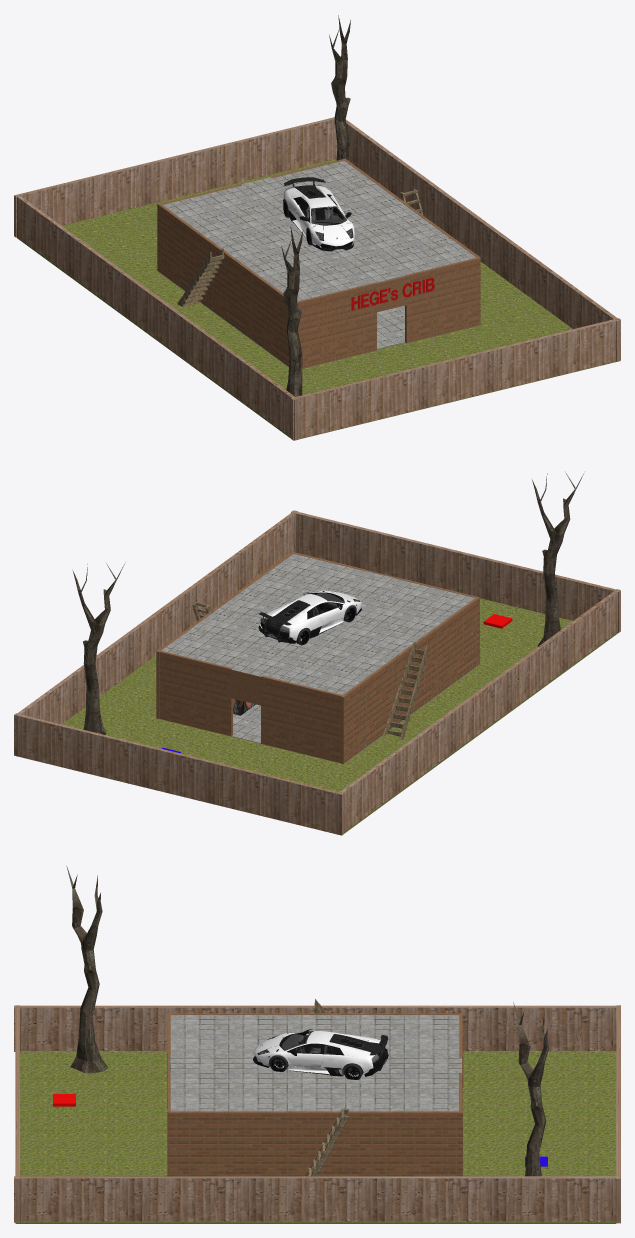
Rendered from hege.glb.
3 renders of one model, top to bottom at view 1: azimuth 30°, elevation 25°; view 2: azimuth 150°, elevation 25°; view 3: azimuth 270°, elevation 25°, orthographic. The views are drawn at different scales.
Visible parts, largest first — view 1: Box (×11), Cylinder001 (×2), carobjcleanermaterialmergergles, Ladder_Ladder_0, Text; view 2: Box (×12), Cylinder001 (×2), carobjcleanermaterialmergergles, Ladder_Ladder_0; view 3: Box (×8), Cylinder001 (×2), carobjcleanermaterialmergergles, Ladder.
Part boxes in pixels (x1=…): Box (×11): x1=14, y1=117, x2=620, y2=440; Cylinder001 (×2): x1=281, y1=15, x2=350, y2=396; carobjcleanermaterialmergergles: x1=283, y1=177, x2=354, y2=251; Ladder_Ladder_0: x1=177, y1=248, x2=224, y2=306; Text: x1=351, y1=277, x2=434, y2=310; Box (×12): x1=14, y1=510, x2=620, y2=835; Cylinder001 (×2): x1=72, y1=472, x2=583, y2=734; carobjcleanermaterialmergergles: x1=258, y1=590, x2=361, y2=645; Ladder_Ladder_0: x1=382, y1=641, x2=427, y2=740; Box (×8): x1=14, y1=1005, x2=620, y2=1223; Cylinder001 (×2): x1=66, y1=866, x2=548, y2=1176; carobjcleanermaterialmergergles: x1=253, y1=1029, x2=388, y2=1079; Ladder: x1=303, y1=1108, x2=348, y2=1176.
Bounding box in the file's own units: 18.02 × 10.7 × 26.62.
31 materials, 27 textured.
